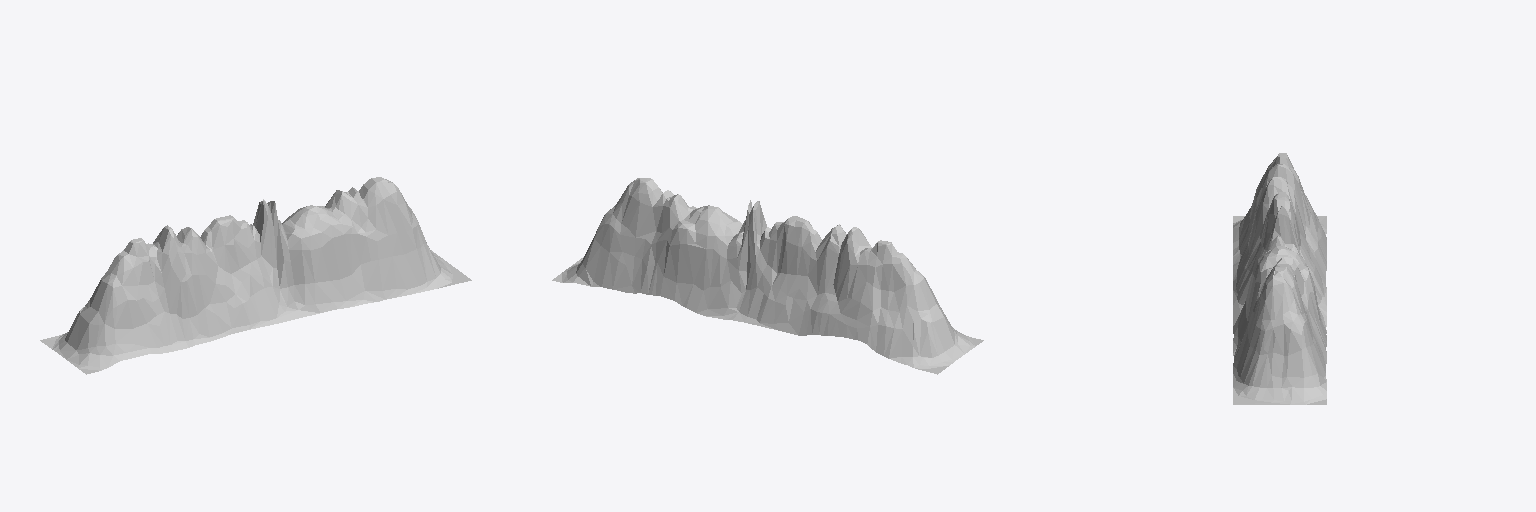
Rendered from BorderMountains1.1.obj.
3 views of the same model, side by side, from view 1: azimuth 30°, elevation 25°; view 2: azimuth 150°, elevation 25°; view 3: azimuth 270°, elevation 25° (orthographic).
Visible parts, largest first — view 1: Cube; view 2: Cube; view 3: Cube.
Boxes of the visible parts, box(x1,y1,x2,y2) form: Cube: box(40, 177, 471, 374); Cube: box(552, 178, 983, 374); Cube: box(1233, 153, 1326, 404).
Bounding box in the file's own units: 18.29 × 4.93 × 3.83.